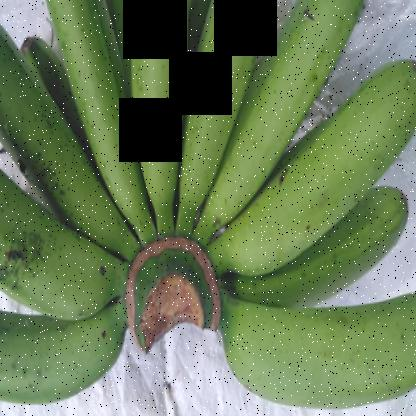unripe: (217, 35, 415, 278), (206, 298, 415, 415), (172, 1, 280, 201), (107, 1, 197, 233), (1, 286, 128, 416), (0, 184, 108, 330)
